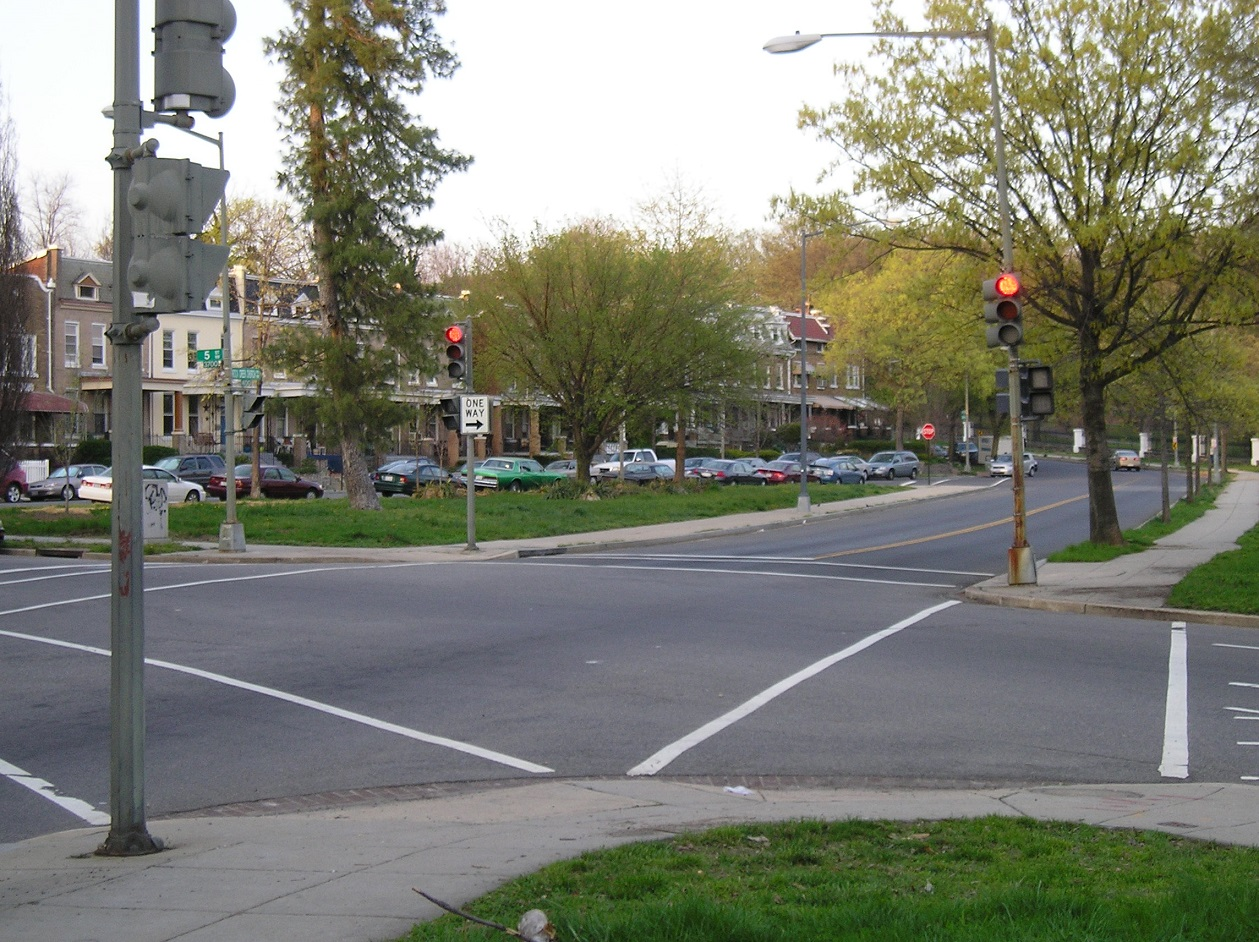traffic_light: (990, 267, 1028, 348), (441, 321, 472, 383)
